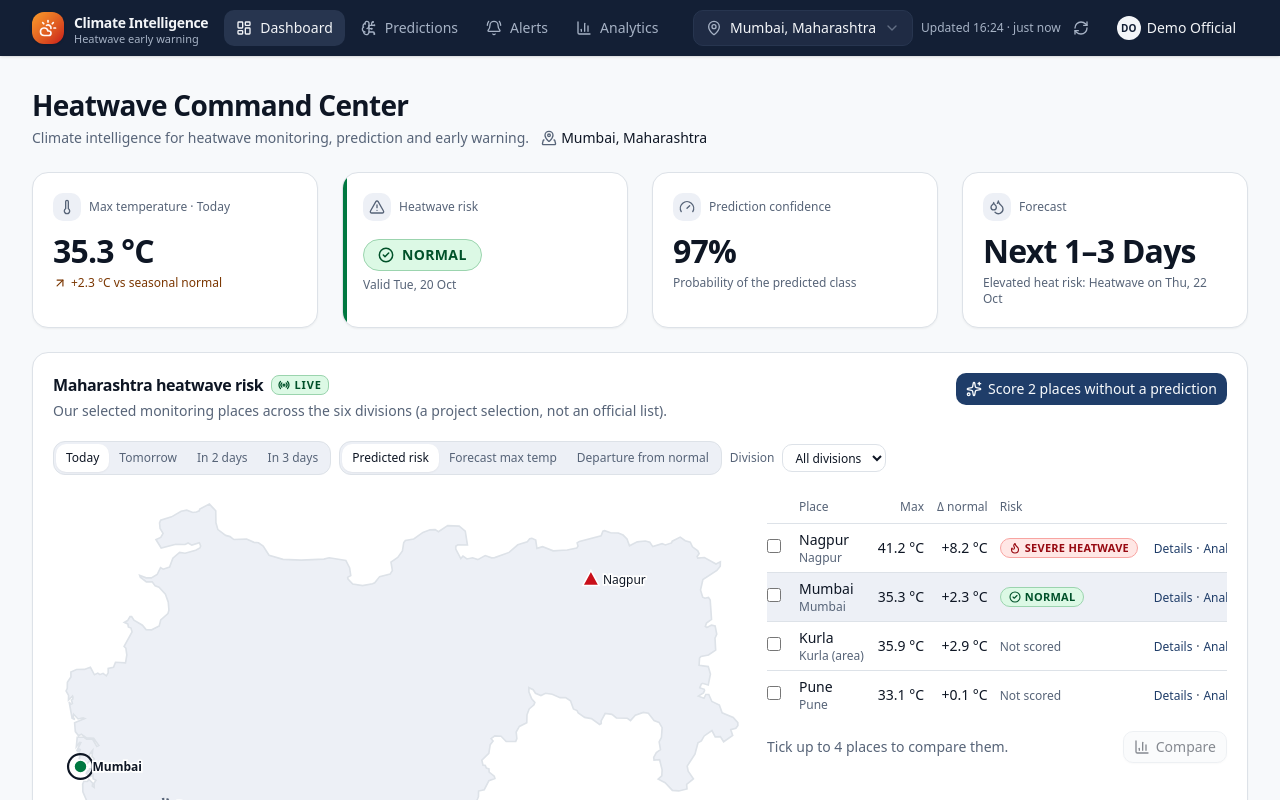
Test case: Heatwave Command Center › scores missing places only when asked, and says what happened
Click the button "Score 2 places without a prediction": [1092, 389] box [956,373,1227,405]
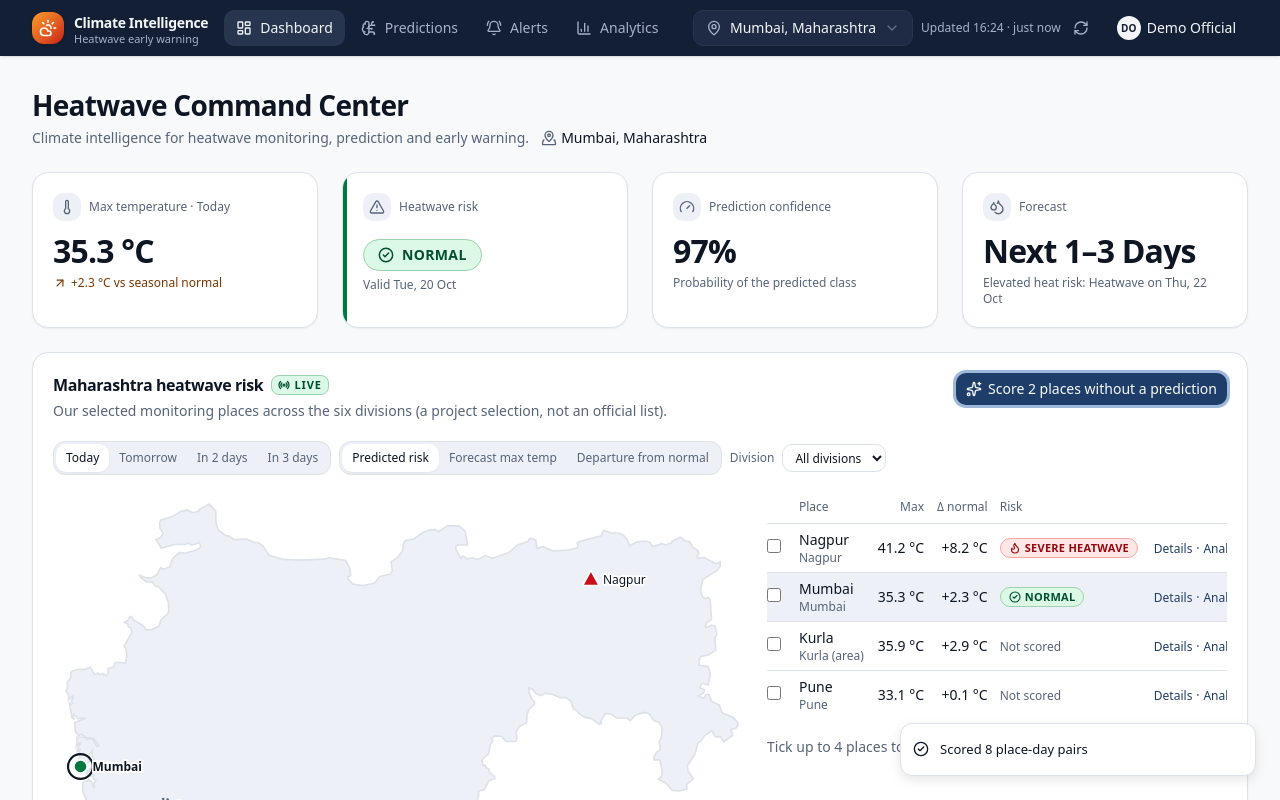
Expected: the text "Scored 8 place-day pairs" is shown, [940,740,1088,759]
